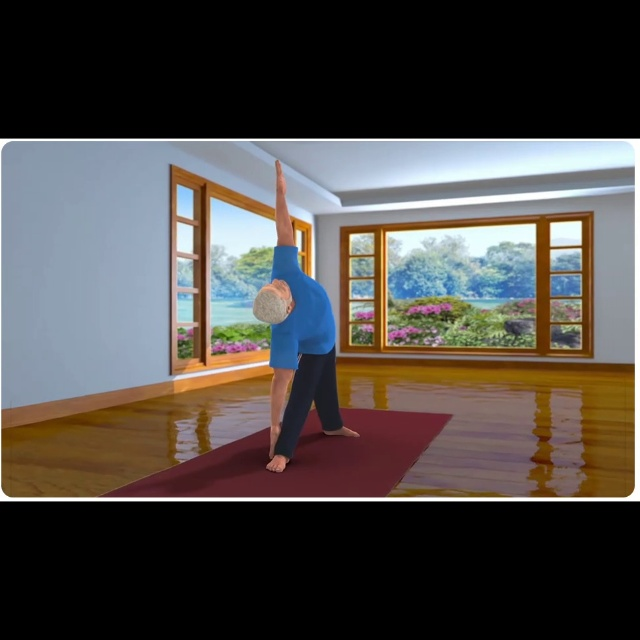Triangle_Pose: (232, 151, 389, 492)
